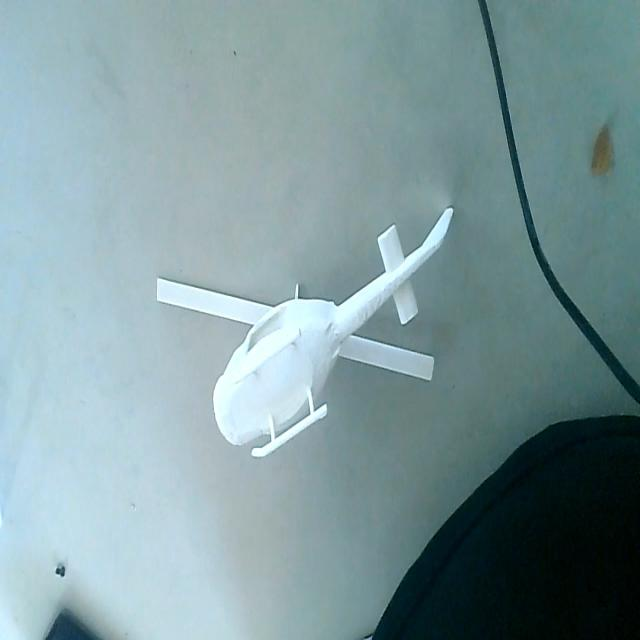Helicopter: (158, 204, 458, 463)
